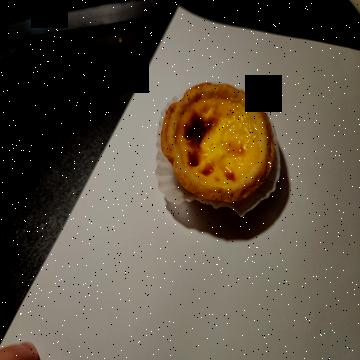EggTart: (158, 81, 274, 202)
